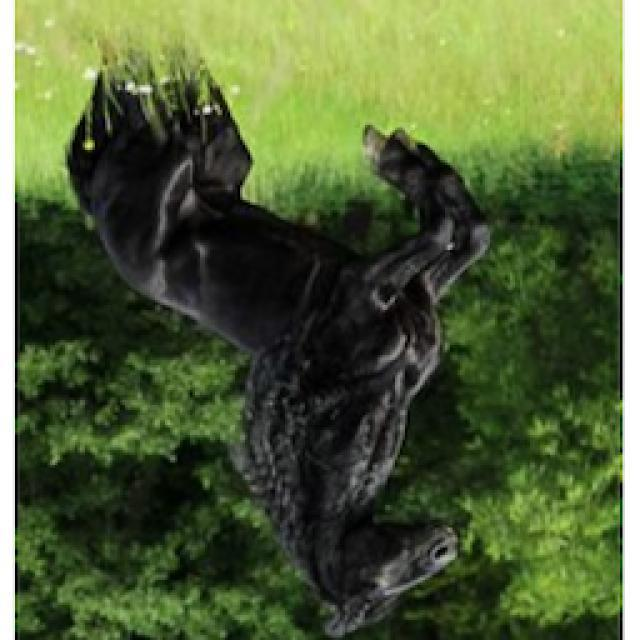Horse: (60, 40, 500, 640)
